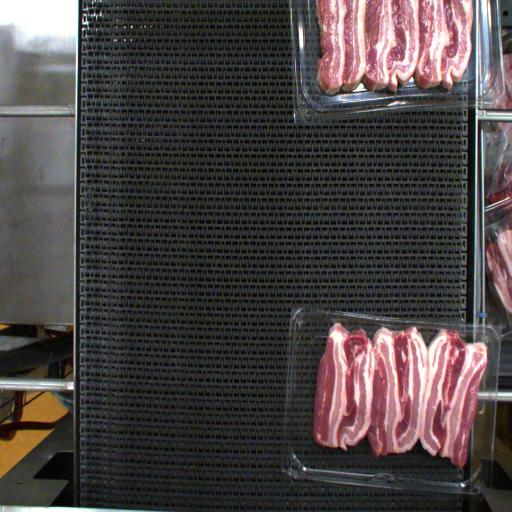packaging-error: (436, 318, 466, 340)
